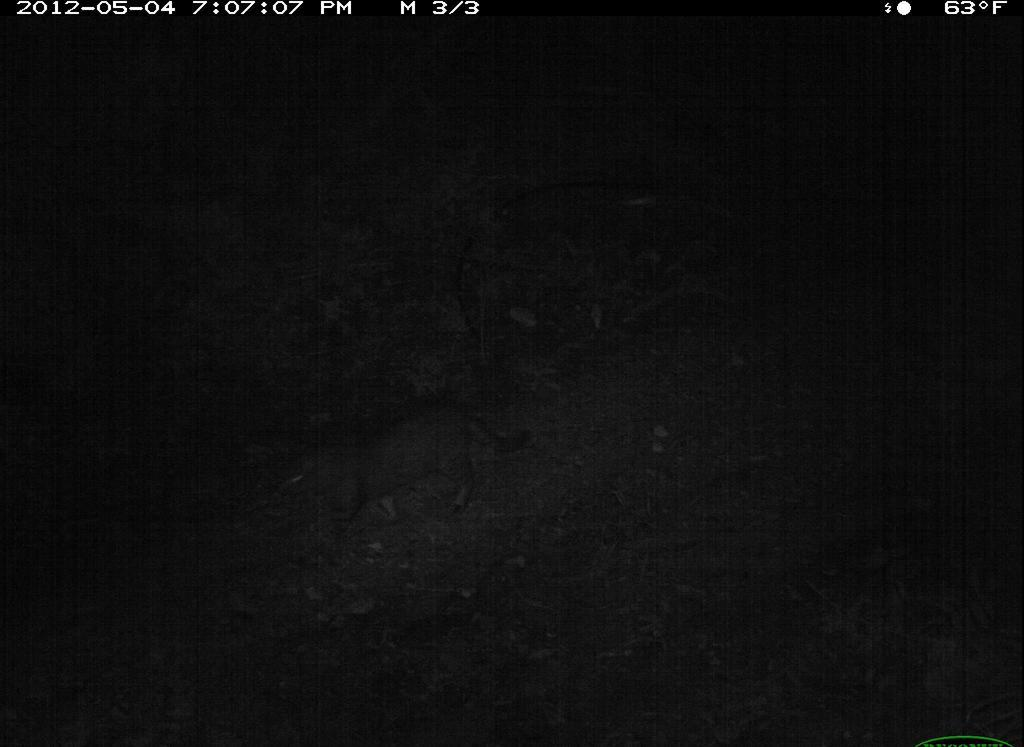cat: (267, 401, 537, 550)
